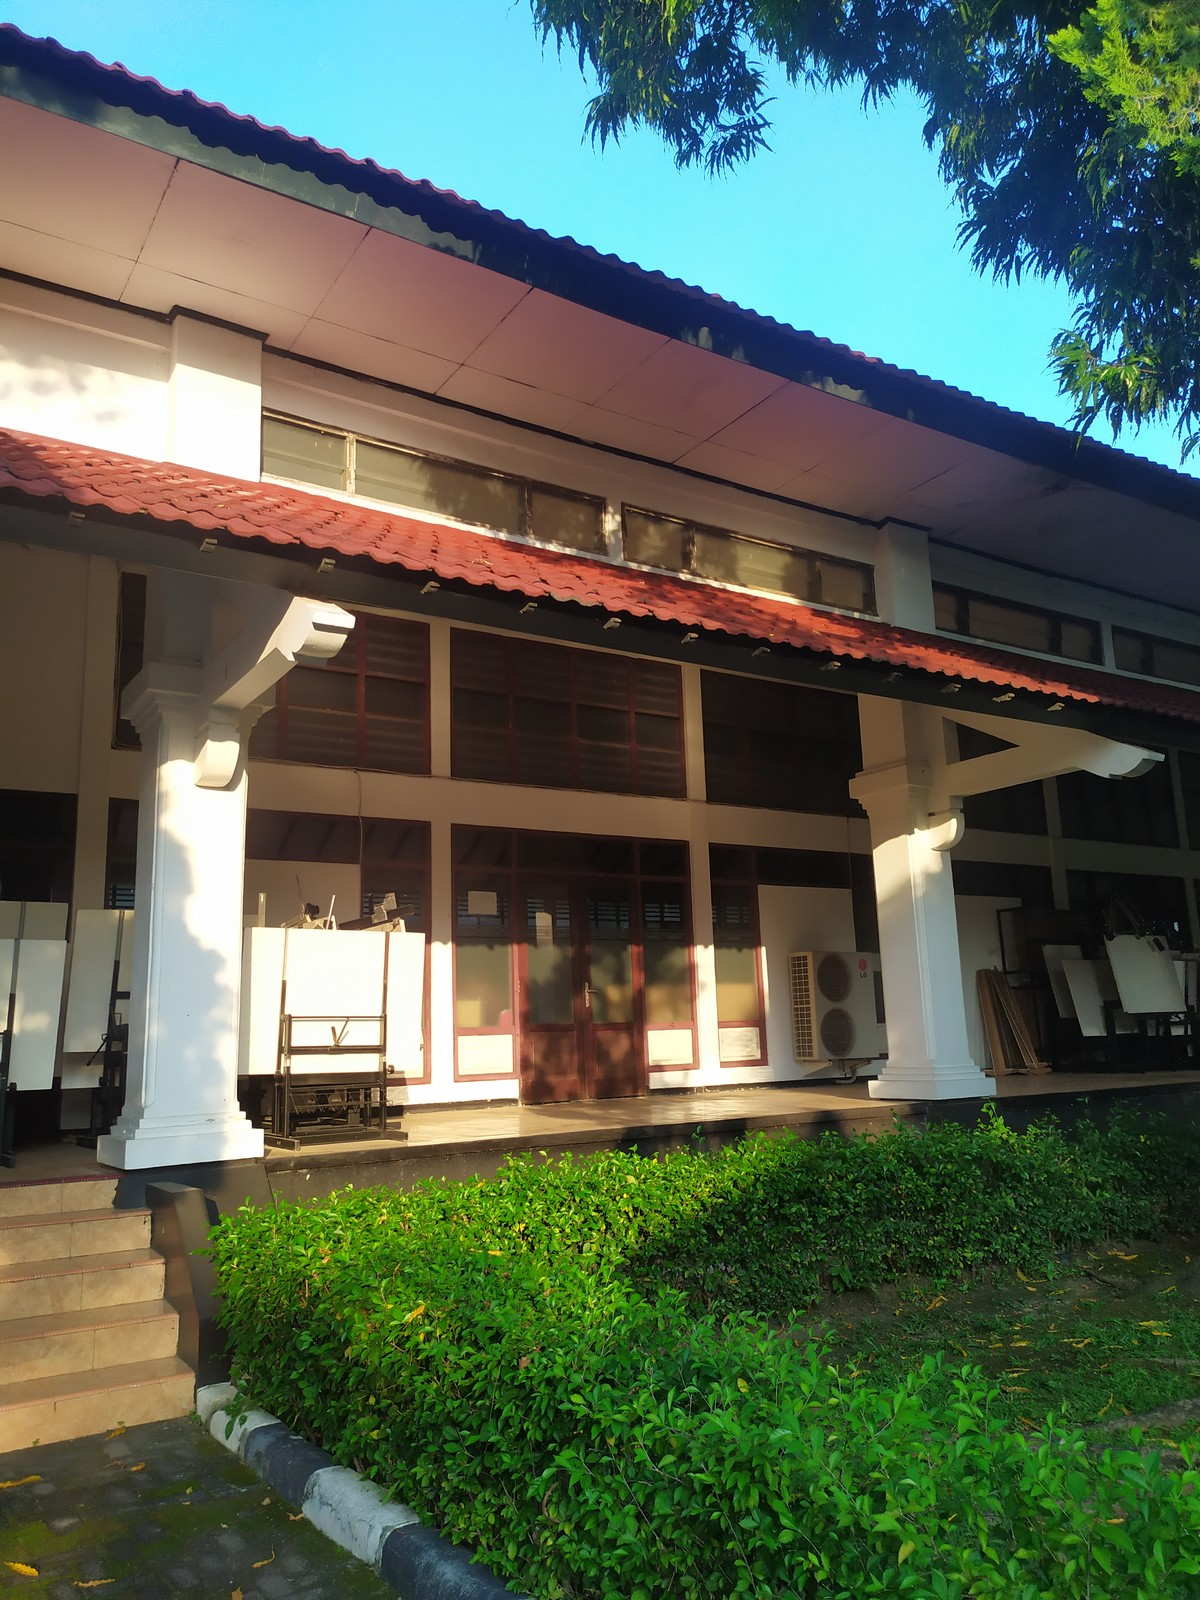concrete column: (122, 711, 260, 1128), (860, 801, 986, 1096)
